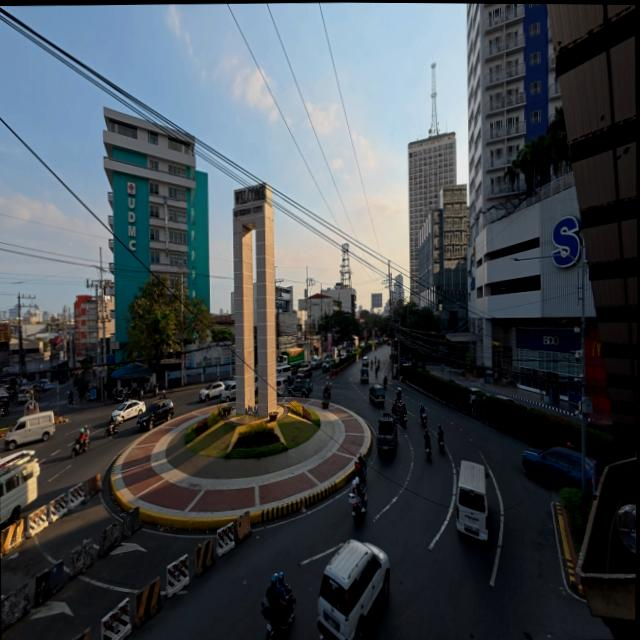car: (317, 541, 390, 639), (523, 447, 582, 487), (137, 400, 174, 430), (111, 401, 146, 423), (199, 382, 224, 401), (288, 379, 313, 397), (587, 420, 613, 435), (369, 384, 385, 405), (220, 383, 236, 403), (470, 388, 485, 408), (296, 366, 312, 379), (495, 395, 517, 404), (38, 379, 57, 389), (360, 367, 369, 383), (310, 356, 321, 369), (224, 376, 236, 385), (298, 362, 310, 371), (44, 381, 57, 389), (322, 360, 330, 371), (254, 373, 258, 394), (362, 358, 369, 368), (339, 349, 346, 358), (359, 340, 365, 347)
motorcycle: (261, 598, 282, 639), (348, 493, 366, 524), (72, 438, 89, 458), (105, 417, 119, 437), (356, 461, 367, 485), (144, 383, 159, 397), (115, 390, 127, 403), (391, 402, 401, 417), (399, 409, 407, 427), (168, 378, 180, 388), (323, 383, 331, 398), (420, 411, 426, 426), (426, 445, 431, 461), (383, 378, 388, 390), (68, 393, 73, 405), (440, 439, 444, 453), (370, 362, 372, 370)
trucks: (377, 414, 398, 454), (277, 348, 304, 372), (350, 335, 359, 351)
vans: (0, 451, 40, 524), (457, 461, 488, 541), (5, 410, 54, 450), (17, 386, 33, 403), (276, 365, 291, 380), (276, 376, 286, 396)
